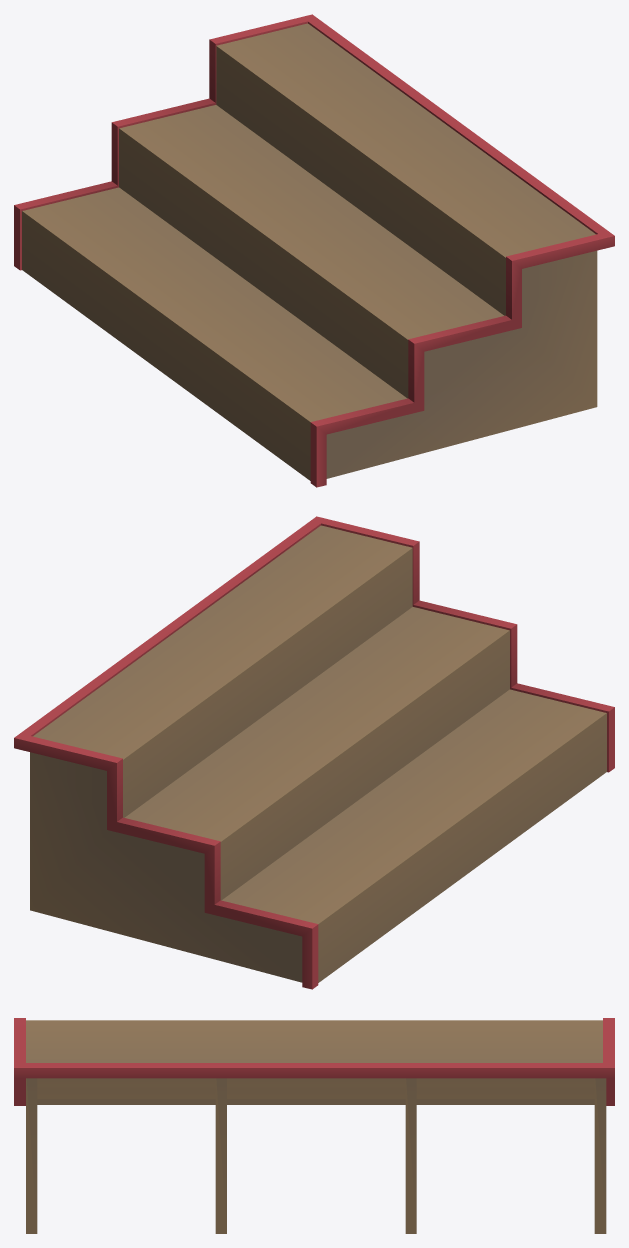
3 renders of one model, top to bottom at view 1: azimuth 30°, elevation 25°; view 2: azimuth 150°, elevation 25°; view 3: azimuth 270°, elevation 25°, orthographic.
Parts seen in each view (by area): view 1: Cheap Seats.000; view 2: Cheap Seats.000; view 3: Cheap Seats.000.
Boxes of the visible parts, left/top/right/bottom form: Cheap Seats.000: left=14, top=14, right=614, bottom=487; Cheap Seats.000: left=14, top=516, right=614, bottom=989; Cheap Seats.000: left=14, top=1018, right=614, bottom=1233.
Bounding box in the file's own units: 1.87 × 1.07 × 3.29.
